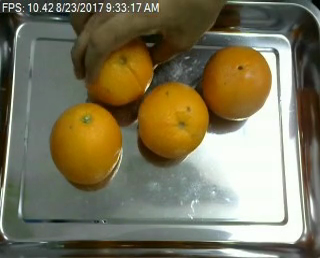Orange: (49, 103, 121, 184), (138, 82, 208, 156), (204, 45, 273, 118)
